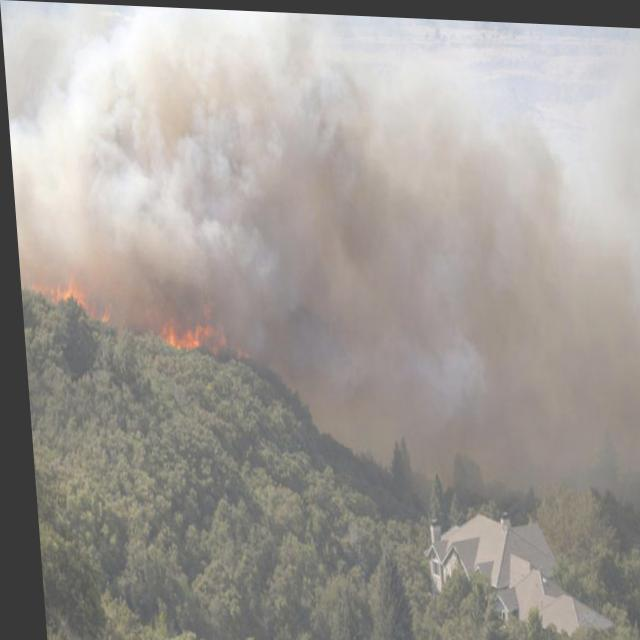Fire: (26, 260, 108, 328), (152, 312, 208, 360)
